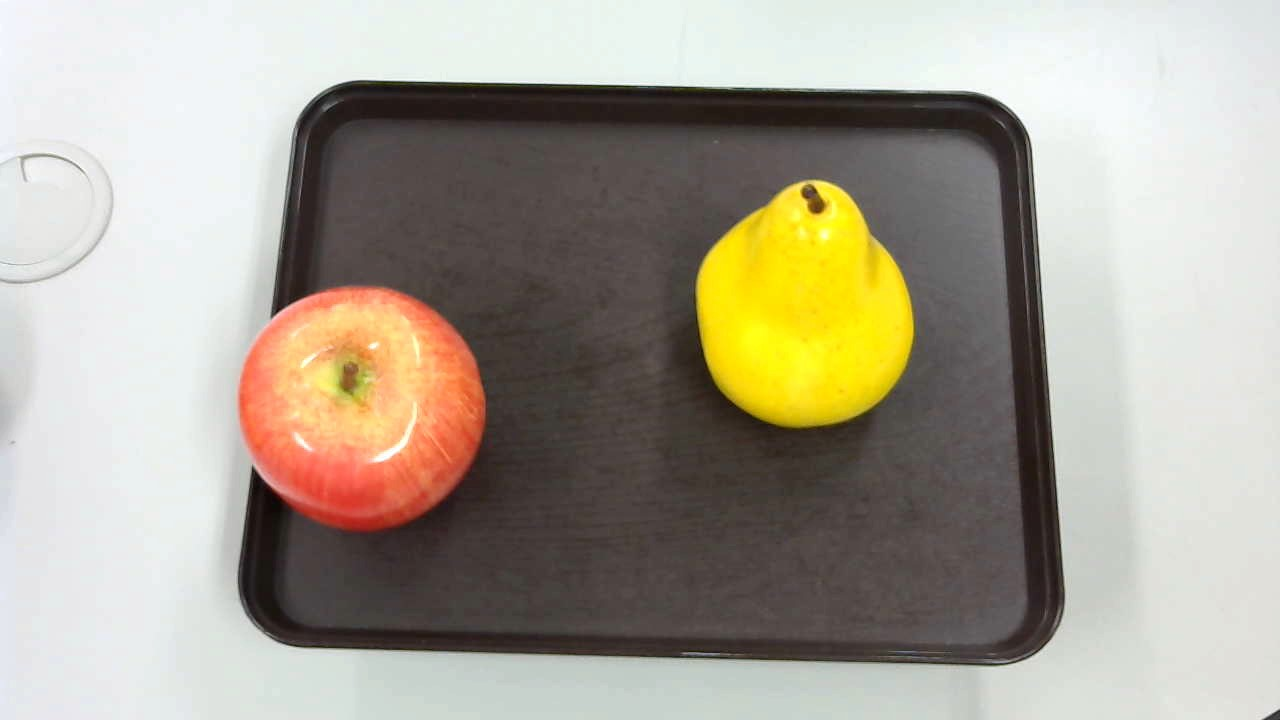red apple: (238, 288, 485, 530)
yellow pear: (692, 178, 919, 437)
